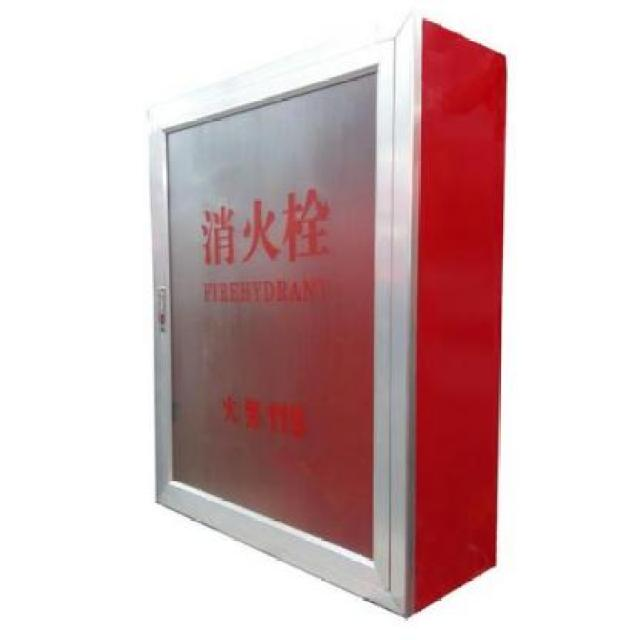firehydrant: (141, 3, 514, 625)
